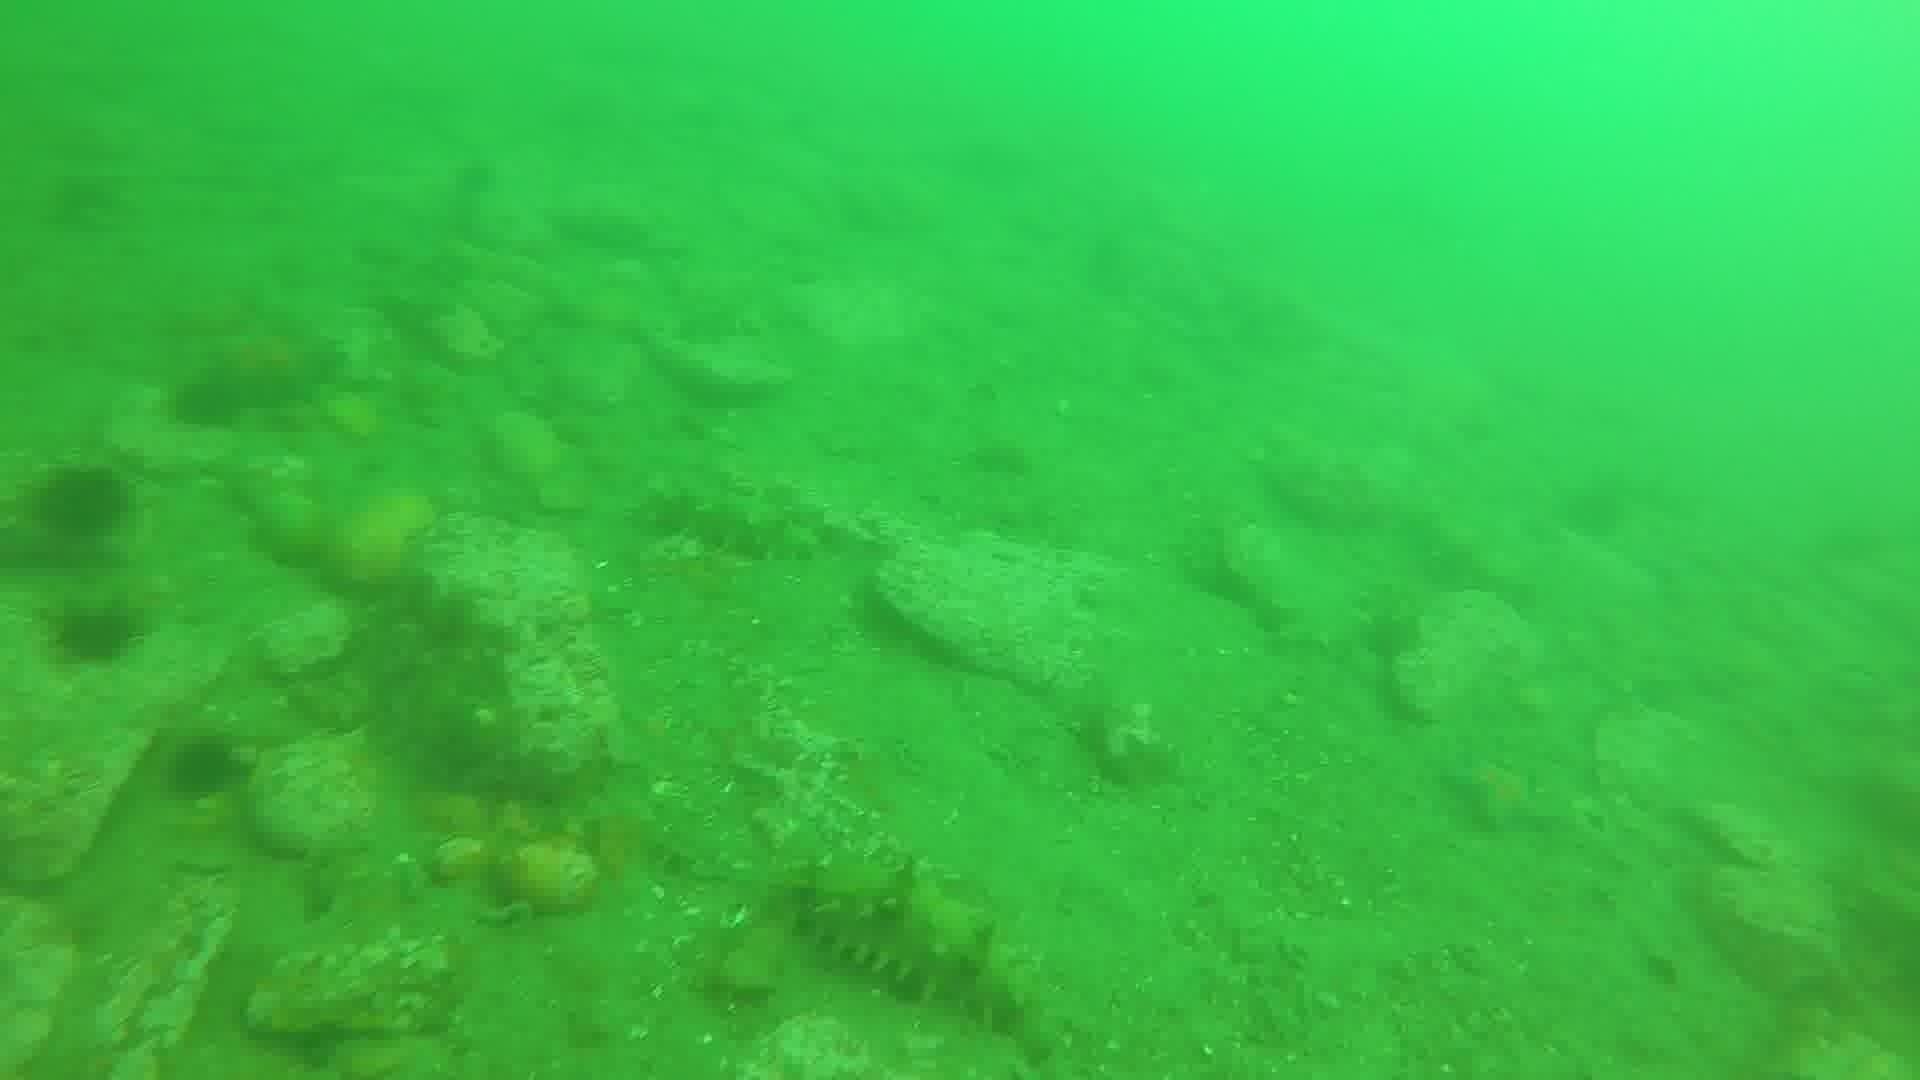echinus: (29, 460, 135, 546), (44, 597, 145, 673), (161, 732, 245, 804), (164, 371, 247, 436)
holothurian: (778, 855, 1040, 1036), (634, 477, 832, 566)
starfish: (174, 313, 344, 426), (1436, 748, 1557, 837)
